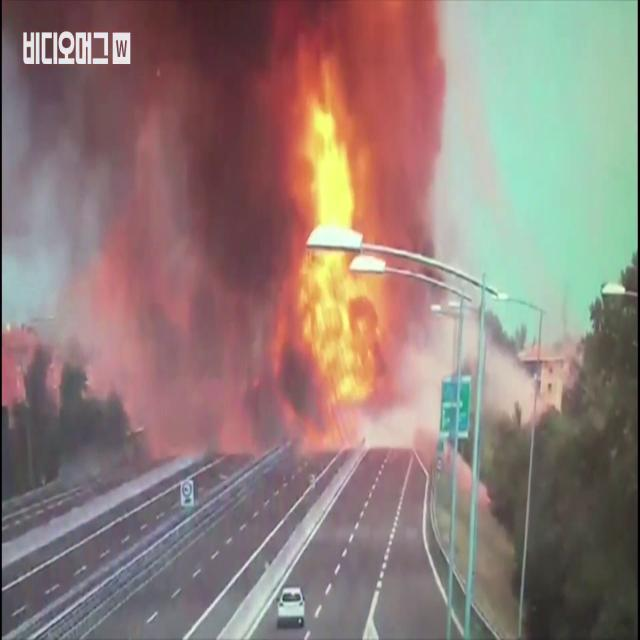explosion: (122, 7, 516, 538)
